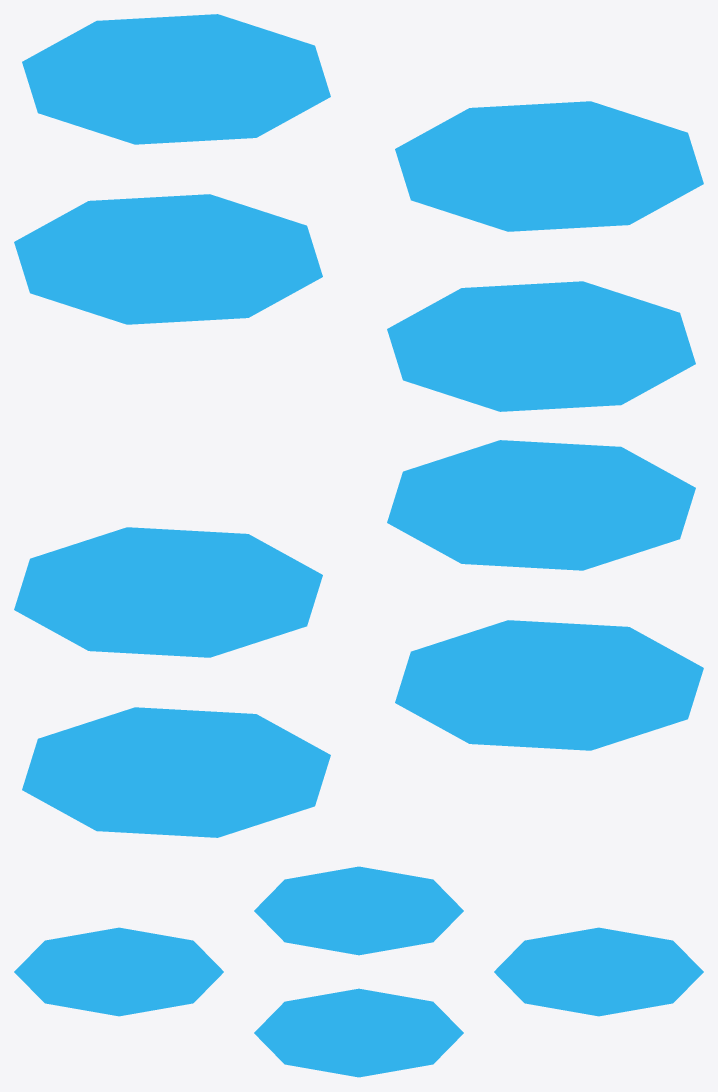
File: hieroglyph_007.glb
3 views of the same model, one above another, from view 1: azimuth 30°, elevation 25°; view 2: azimuth 150°, elevation 25°; view 3: azimuth 270°, elevation 25° (orthographic). The views are drawn at different scales.
Visible parts, largest first — view 1: hieroglyph_007; view 2: hieroglyph_007; view 3: hieroglyph_007.
Part boxes in pixels (x1=…): hieroglyph_007: x1=14, y1=14, x2=703, y2=411; hieroglyph_007: x1=14, y1=440, x2=703, y2=837; hieroglyph_007: x1=14, y1=866, x2=703, y2=1077.
Size of the model in its own units: 0.4597 by 0 by 0.6353.
Materials: 1 (1 with a texture image).
